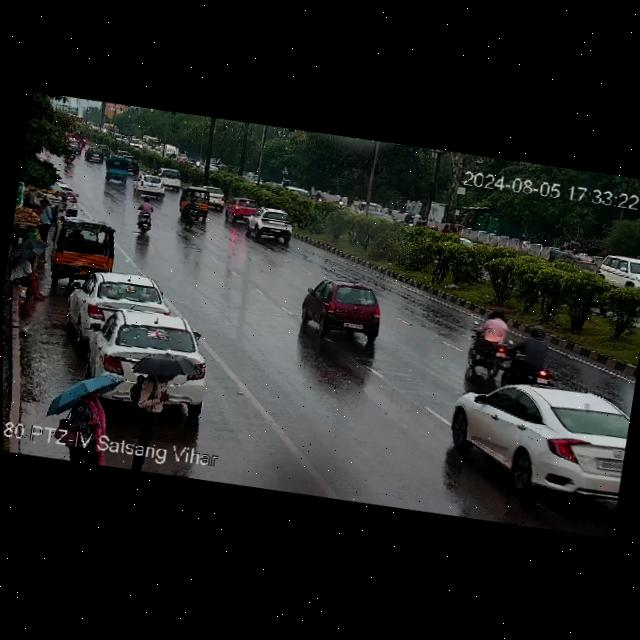car: (444, 368, 634, 502), (89, 306, 208, 392), (67, 265, 170, 342), (295, 272, 386, 346), (50, 216, 122, 283), (592, 250, 640, 296), (245, 203, 296, 245), (32, 178, 83, 215), (177, 181, 212, 218), (132, 172, 168, 201), (224, 196, 258, 225), (153, 166, 185, 190), (201, 186, 228, 212), (83, 144, 109, 165), (128, 156, 141, 176)
motorcycle: (497, 319, 558, 389), (467, 305, 514, 373), (129, 196, 160, 236), (182, 194, 201, 229), (401, 210, 418, 229)
person: (127, 351, 192, 419), (4, 253, 55, 306), (76, 386, 114, 432), (34, 198, 54, 248), (58, 196, 70, 219)
truck: (99, 154, 132, 187)
